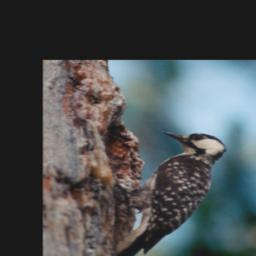Woodpecker: (105, 128, 240, 256)
